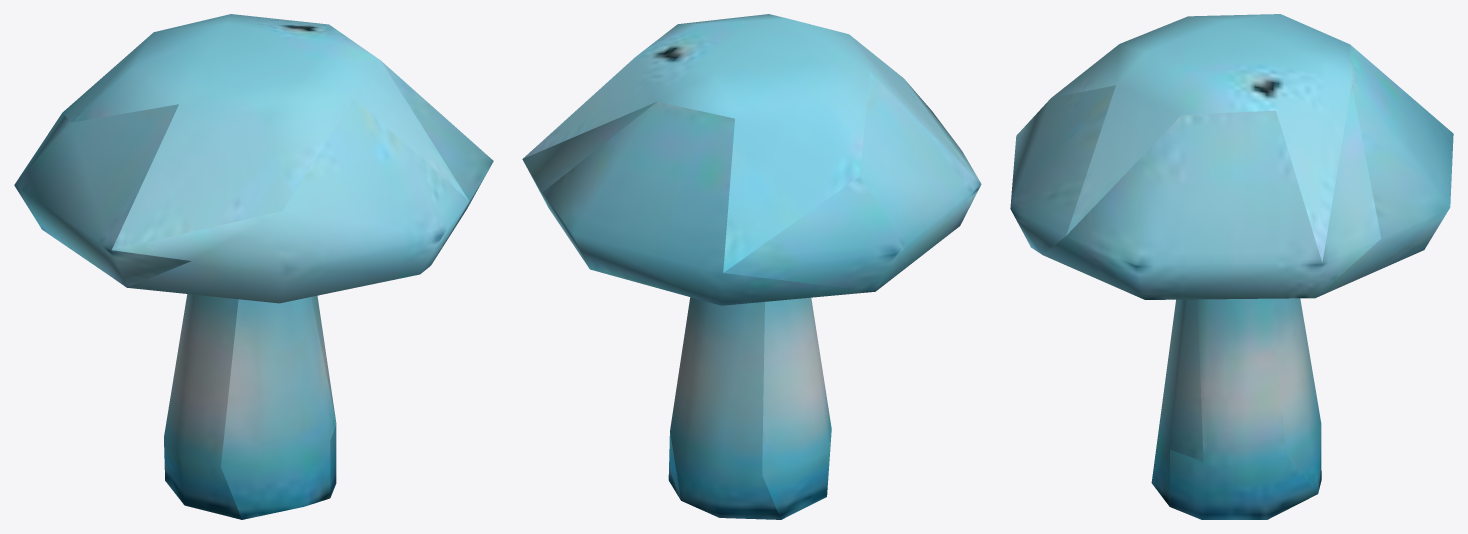
The model's file is b_mycelium_deco_champignon.glb.
The picture shows the model from 3 angles, left to right: view 1: azimuth 30°, elevation 25°; view 2: azimuth 150°, elevation 25°; view 3: azimuth 270°, elevation 25°; orthographic projection.
Parts seen in each view (by area): view 1: geometry_0; view 2: geometry_0; view 3: geometry_0.
Part boxes in pixels (bbox=[...]): geometry_0: bbox=[14, 14, 493, 519]; geometry_0: bbox=[522, 14, 981, 519]; geometry_0: bbox=[1010, 14, 1453, 519].
Bounding box in the file's own units: 1 × 1.09 × 1.
Materials: 1 (1 with a texture image).
